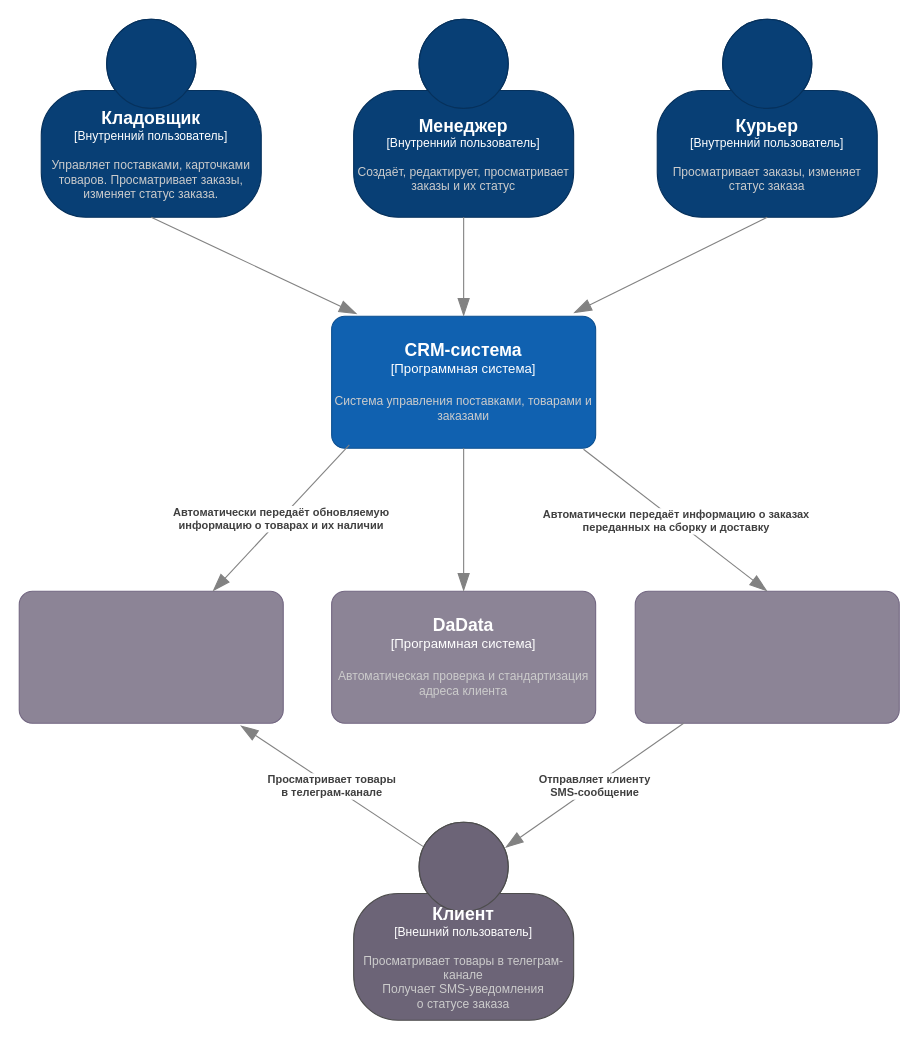
Image size: 919x1040. Some labels were removed from this diagram. The box of each missing label's shape, as (x1, y1, x2, y2) in pixels:
SMS Aero [Программная система] Сервис отправки SMS-сообщений: (634, 590, 899, 723)
Telegram [Программная система] Телеграмм-канал с карточками товаров: (18, 590, 283, 723)
